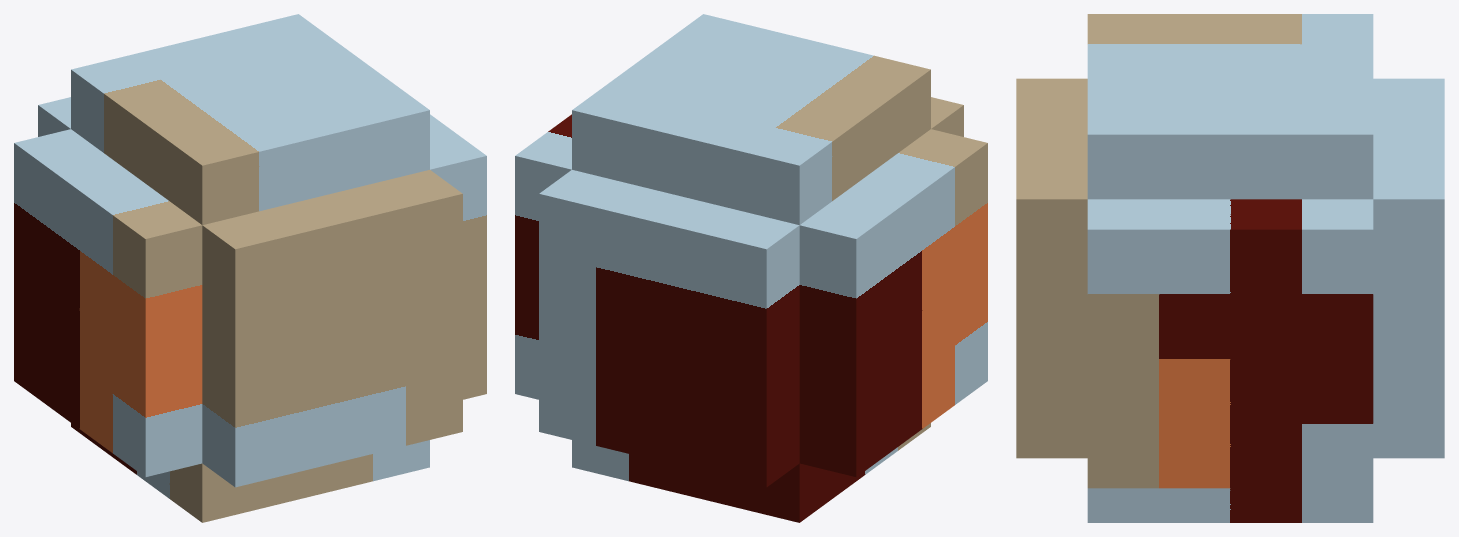
The model's file is Pluto.fbx.
3 renders of one model, left to right at view 1: azimuth 30°, elevation 25°; view 2: azimuth 150°, elevation 25°; view 3: azimuth 270°, elevation 25°, orthographic. The views are drawn at different scales.
Parts seen in each view (by area): view 1: Pluto; view 2: Pluto; view 3: Pluto.
Part boxes in pixels (box(x1,y1,x2,y2)): Pluto: box(14, 14, 486, 522); Pluto: box(515, 14, 987, 522); Pluto: box(1016, 14, 1444, 522).
Size of the model in its own units: 6 by 6 by 6.
Materials: 1 (1 with a texture image).
